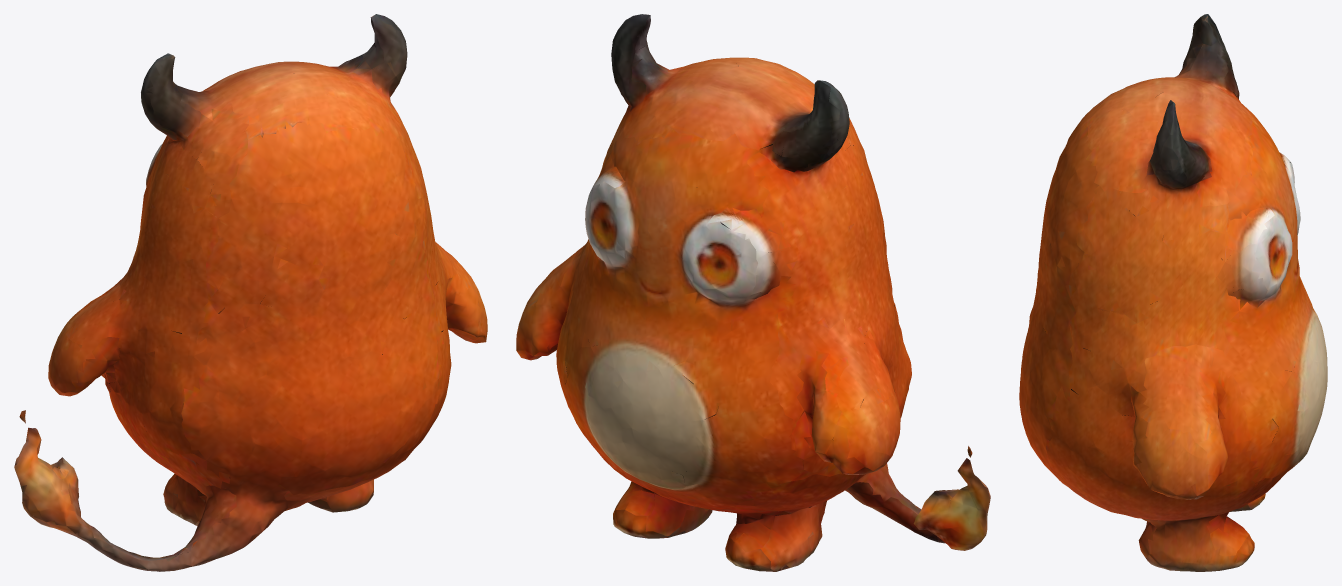
File: fire-01-sf3d-0.glb
3 views of the same model, side by side, from view 1: azimuth 30°, elevation 25°; view 2: azimuth 150°, elevation 25°; view 3: azimuth 270°, elevation 25° (orthographic). The views are drawn at different scales.
Visible parts, largest first — view 1: world; view 2: world; view 3: world.
Boxes of the visible parts, bbox=[...] form: world: bbox=[14, 14, 487, 571]; world: bbox=[516, 14, 990, 571]; world: bbox=[1019, 14, 1327, 571].
Size of the model in its own units: 0.8724 by 0.8708 by 0.5125.
Materials: 1 (1 with a texture image).
